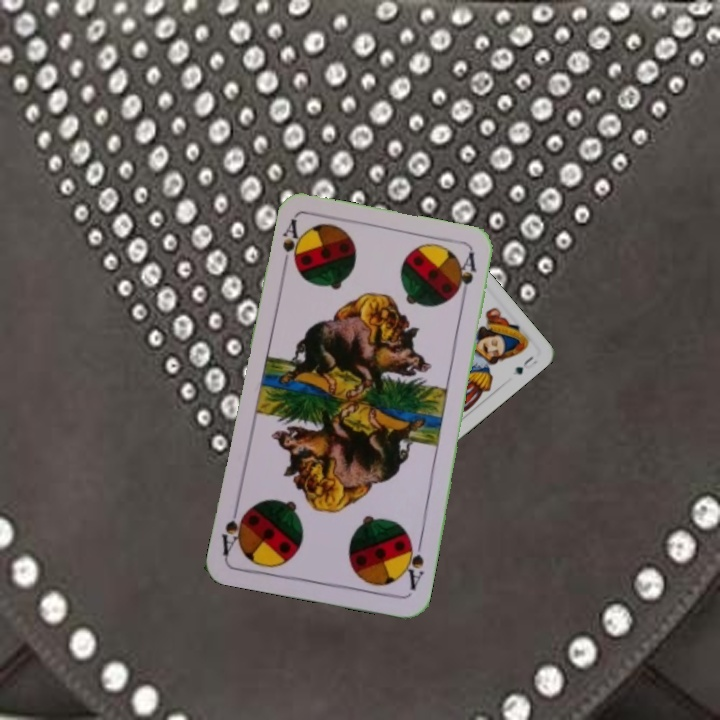SA: (399, 534, 427, 593), (278, 215, 304, 275)
